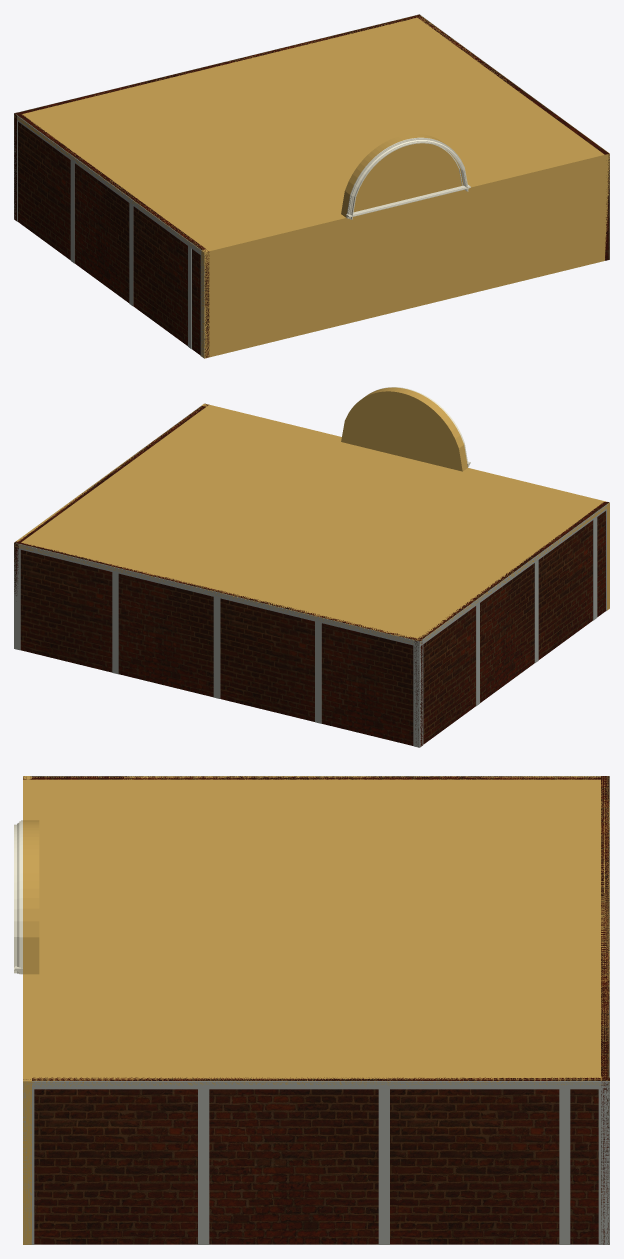
File: building.glb
3 renders of one model, top to bottom at view 1: azimuth 30°, elevation 25°; view 2: azimuth 150°, elevation 25°; view 3: azimuth 270°, elevation 25°, orthographic. The views are drawn at different scales.
Visible parts, largest first — view 1: roof/house:0/roof_slab#0001, house:0/edge0/z0/house:0/edge0/z0/wall_0_0, house:0/edge3/z0/house:0/edge3/z0/wall_0_0, crown/coronamiento/crown_body#0001, house:0/edge2/z0/house:0/edge2/z0/wall_0_0, house:0/edge1/z0/house:0/edge1/z0/wall_0_0, crown/coronamiento/crown_moulding#0001, house:0/edge3/z0/house:0/edge3/z0/beam_0_0, crown/coronamiento/crown_base_cornice#0001, house:0/edge3/z0/house:0/edge3/z0/column_2_0, house:0/edge3/z0/house:0/edge3/z0/column_3_0, house:0/edge3/z0/house:0/edge3/z0/column_1_0; view 2: roof/house:0/roof_slab#0001, house:0/edge2/z0/house:0/edge2/z0/wall_0_0, house:0/edge3/z0/house:0/edge3/z0/wall_0_0, crown/coronamiento/crown_body#0001, house:0/edge2/z0/house:0/edge2/z0/beam_0_0, house:0/edge0/z0/house:0/edge0/z0/wall_0_0, house:0/edge3/z0/house:0/edge3/z0/beam_0_0, house:0/edge1/z0/house:0/edge1/z0/wall_0_0, house:0/edge2/z0/house:0/edge2/z0/column_3_0, house:0/edge2/z0/house:0/edge2/z0/column_1_0, house:0/edge2/z0/house:0/edge2/z0/column_2_0, house:0/edge2/z0/house:0/edge2/z0/column_4_0 (+3 smaller); view 3: roof/house:0/roof_slab#0001, house:0/edge1/z0/house:0/edge1/z0/wall_0_0, house:0/edge1/z0/house:0/edge1/z0/beam_0_0, house:0/edge2/z0/house:0/edge2/z0/wall_0_0, house:0/edge0/z0/house:0/edge0/z0/wall_0_0, crown/coronamiento/crown_body#0001, house:0/edge3/z0/house:0/edge3/z0/wall_0_0, house:0/edge1/z0/house:0/edge1/z0/column_1_0, house:0/edge1/z0/house:0/edge1/z0/column_2_0, house:0/edge1/z0/house:0/edge1/z0/column_3_0, house:0/edge1/z0/house:0/edge1/z0/column_4_0, crown/coronamiento/crown_moulding#0001 (+1 smaller).
Boxes of the visible parts, bbox=[...] form: roof/house:0/roof_slab#0001: bbox=[14, 16, 607, 253]; house:0/edge0/z0/house:0/edge0/z0/wall_0_0: bbox=[201, 151, 609, 358]; house:0/edge3/z0/house:0/edge3/z0/wall_0_0: bbox=[14, 112, 209, 357]; crown/coronamiento/crown_body#0001: bbox=[341, 134, 463, 216]; house:0/edge2/z0/house:0/edge2/z0/wall_0_0: bbox=[14, 14, 421, 220]; house:0/edge1/z0/house:0/edge1/z0/wall_0_0: bbox=[415, 14, 609, 260]; crown/coronamiento/crown_moulding#0001: bbox=[347, 137, 468, 219]; house:0/edge3/z0/house:0/edge3/z0/beam_0_0: bbox=[14, 113, 204, 256]; crown/coronamiento/crown_base_cornice#0001: bbox=[346, 185, 470, 217]; house:0/edge3/z0/house:0/edge3/z0/column_2_0: bbox=[70, 160, 74, 263]; house:0/edge3/z0/house:0/edge3/z0/column_3_0: bbox=[129, 203, 133, 305]; house:0/edge3/z0/house:0/edge3/z0/column_1_0: bbox=[200, 255, 204, 357]; roof/house:0/roof_slab#0001: bbox=[14, 405, 606, 643]; house:0/edge2/z0/house:0/edge2/z0/wall_0_0: bbox=[14, 541, 422, 746]; house:0/edge3/z0/house:0/edge3/z0/wall_0_0: bbox=[414, 502, 608, 746]; crown/coronamiento/crown_body#0001: bbox=[341, 388, 466, 471]; house:0/edge2/z0/house:0/edge2/z0/beam_0_0: bbox=[16, 543, 419, 646]; house:0/edge0/z0/house:0/edge0/z0/wall_0_0: bbox=[202, 403, 609, 610]; house:0/edge3/z0/house:0/edge3/z0/beam_0_0: bbox=[419, 502, 609, 646]; house:0/edge1/z0/house:0/edge1/z0/wall_0_0: bbox=[14, 403, 208, 595]; house:0/edge2/z0/house:0/edge2/z0/column_3_0: bbox=[213, 597, 220, 698]; house:0/edge2/z0/house:0/edge2/z0/column_1_0: bbox=[413, 645, 419, 747]; house:0/edge2/z0/house:0/edge2/z0/column_2_0: bbox=[112, 572, 118, 674]; house:0/edge2/z0/house:0/edge2/z0/column_4_0: bbox=[315, 621, 321, 723]; roof/house:0/roof_slab#0001: bbox=[23, 776, 609, 1086]; house:0/edge1/z0/house:0/edge1/z0/wall_0_0: bbox=[23, 1077, 609, 1244]; house:0/edge1/z0/house:0/edge1/z0/beam_0_0: bbox=[23, 1081, 609, 1089]; house:0/edge2/z0/house:0/edge2/z0/wall_0_0: bbox=[601, 776, 609, 1244]; house:0/edge0/z0/house:0/edge0/z0/wall_0_0: bbox=[23, 776, 31, 1244]; crown/coronamiento/crown_body#0001: bbox=[25, 820, 39, 974]; house:0/edge3/z0/house:0/edge3/z0/wall_0_0: bbox=[23, 776, 608, 779]; house:0/edge1/z0/house:0/edge1/z0/column_1_0: bbox=[598, 1089, 609, 1244]; house:0/edge1/z0/house:0/edge1/z0/column_2_0: bbox=[198, 1089, 209, 1244]; house:0/edge1/z0/house:0/edge1/z0/column_3_0: bbox=[378, 1089, 389, 1244]; house:0/edge1/z0/house:0/edge1/z0/column_4_0: bbox=[559, 1089, 570, 1244]; crown/coronamiento/crown_moulding#0001: bbox=[14, 820, 22, 974].
Size of the model in its own units: 16 by 6.4 by 13.2.
4 materials, 1 textured.
